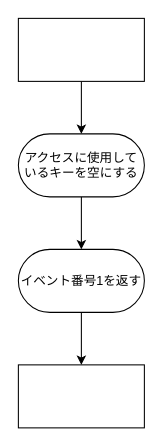
Image size: 163x446. Some labels were removed from this diagram. The shapes that lost their labels are listed below. From the top down, each one's box as (x1, y1, x2, y2) in pixels, then its label:
(17, 17, 144, 81): ログイン (開始)
(17, 364, 144, 428): ログイン (終了)
